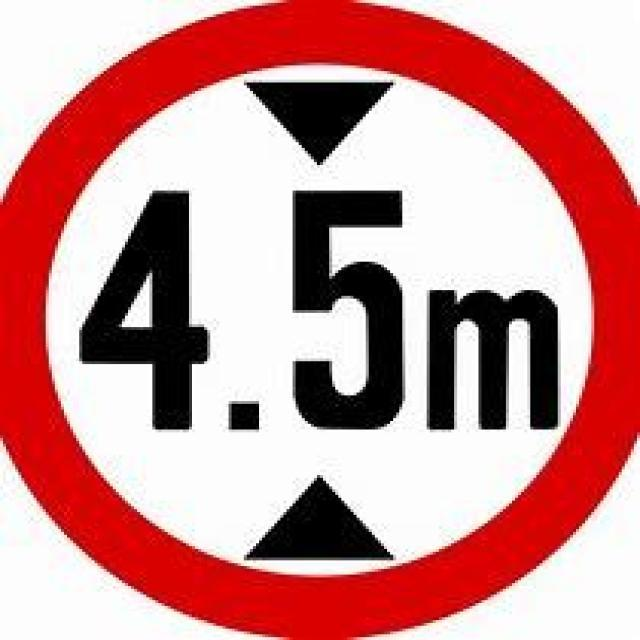height limit: (21, 18, 623, 620)
